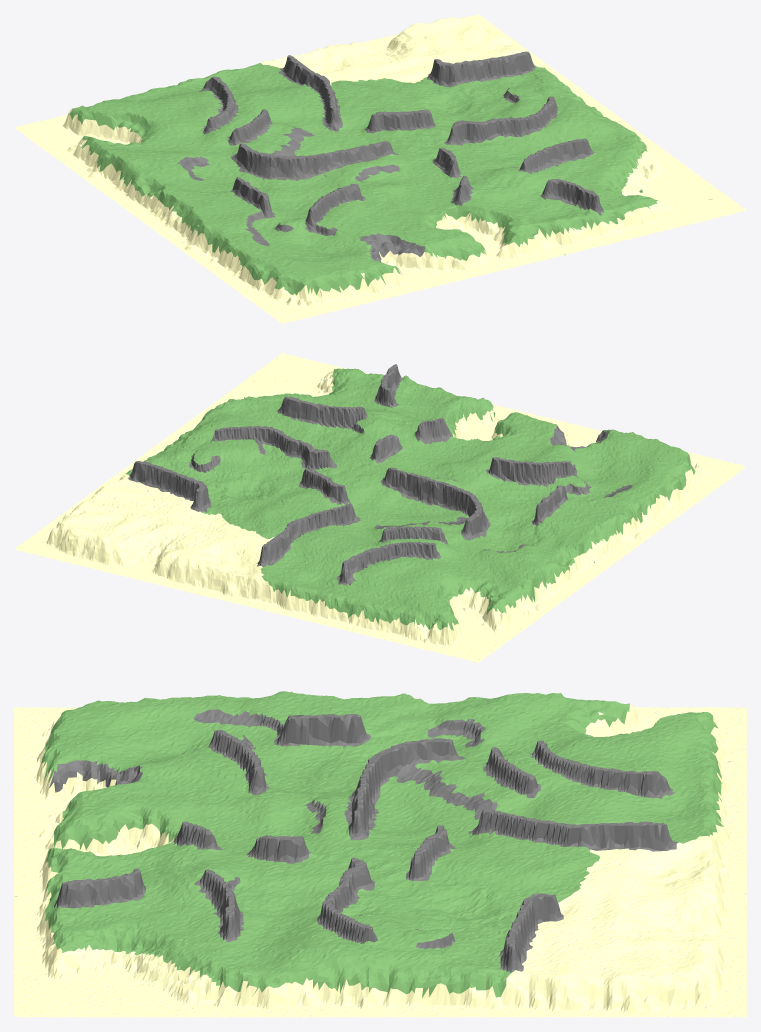
The model's file is Terrain_Low_poly 1.fbx.
3 renders of one model, top to bottom at view 1: azimuth 30°, elevation 25°; view 2: azimuth 150°, elevation 25°; view 3: azimuth 270°, elevation 25°, orthographic. The views are drawn at different scales.
Visible parts, largest first — view 1: Terrain; view 2: Terrain; view 3: Terrain.
Boxes of the visible parts, x1,y1,x2,y2 form: Terrain: (14, 14, 746, 323); Terrain: (14, 352, 746, 662); Terrain: (14, 691, 746, 1017).
Bounding box in the file's own units: 100008 × 7205 × 100007.
